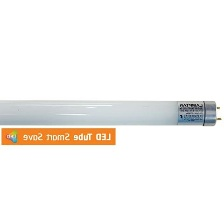light_bulb: (0, 98, 224, 127)
